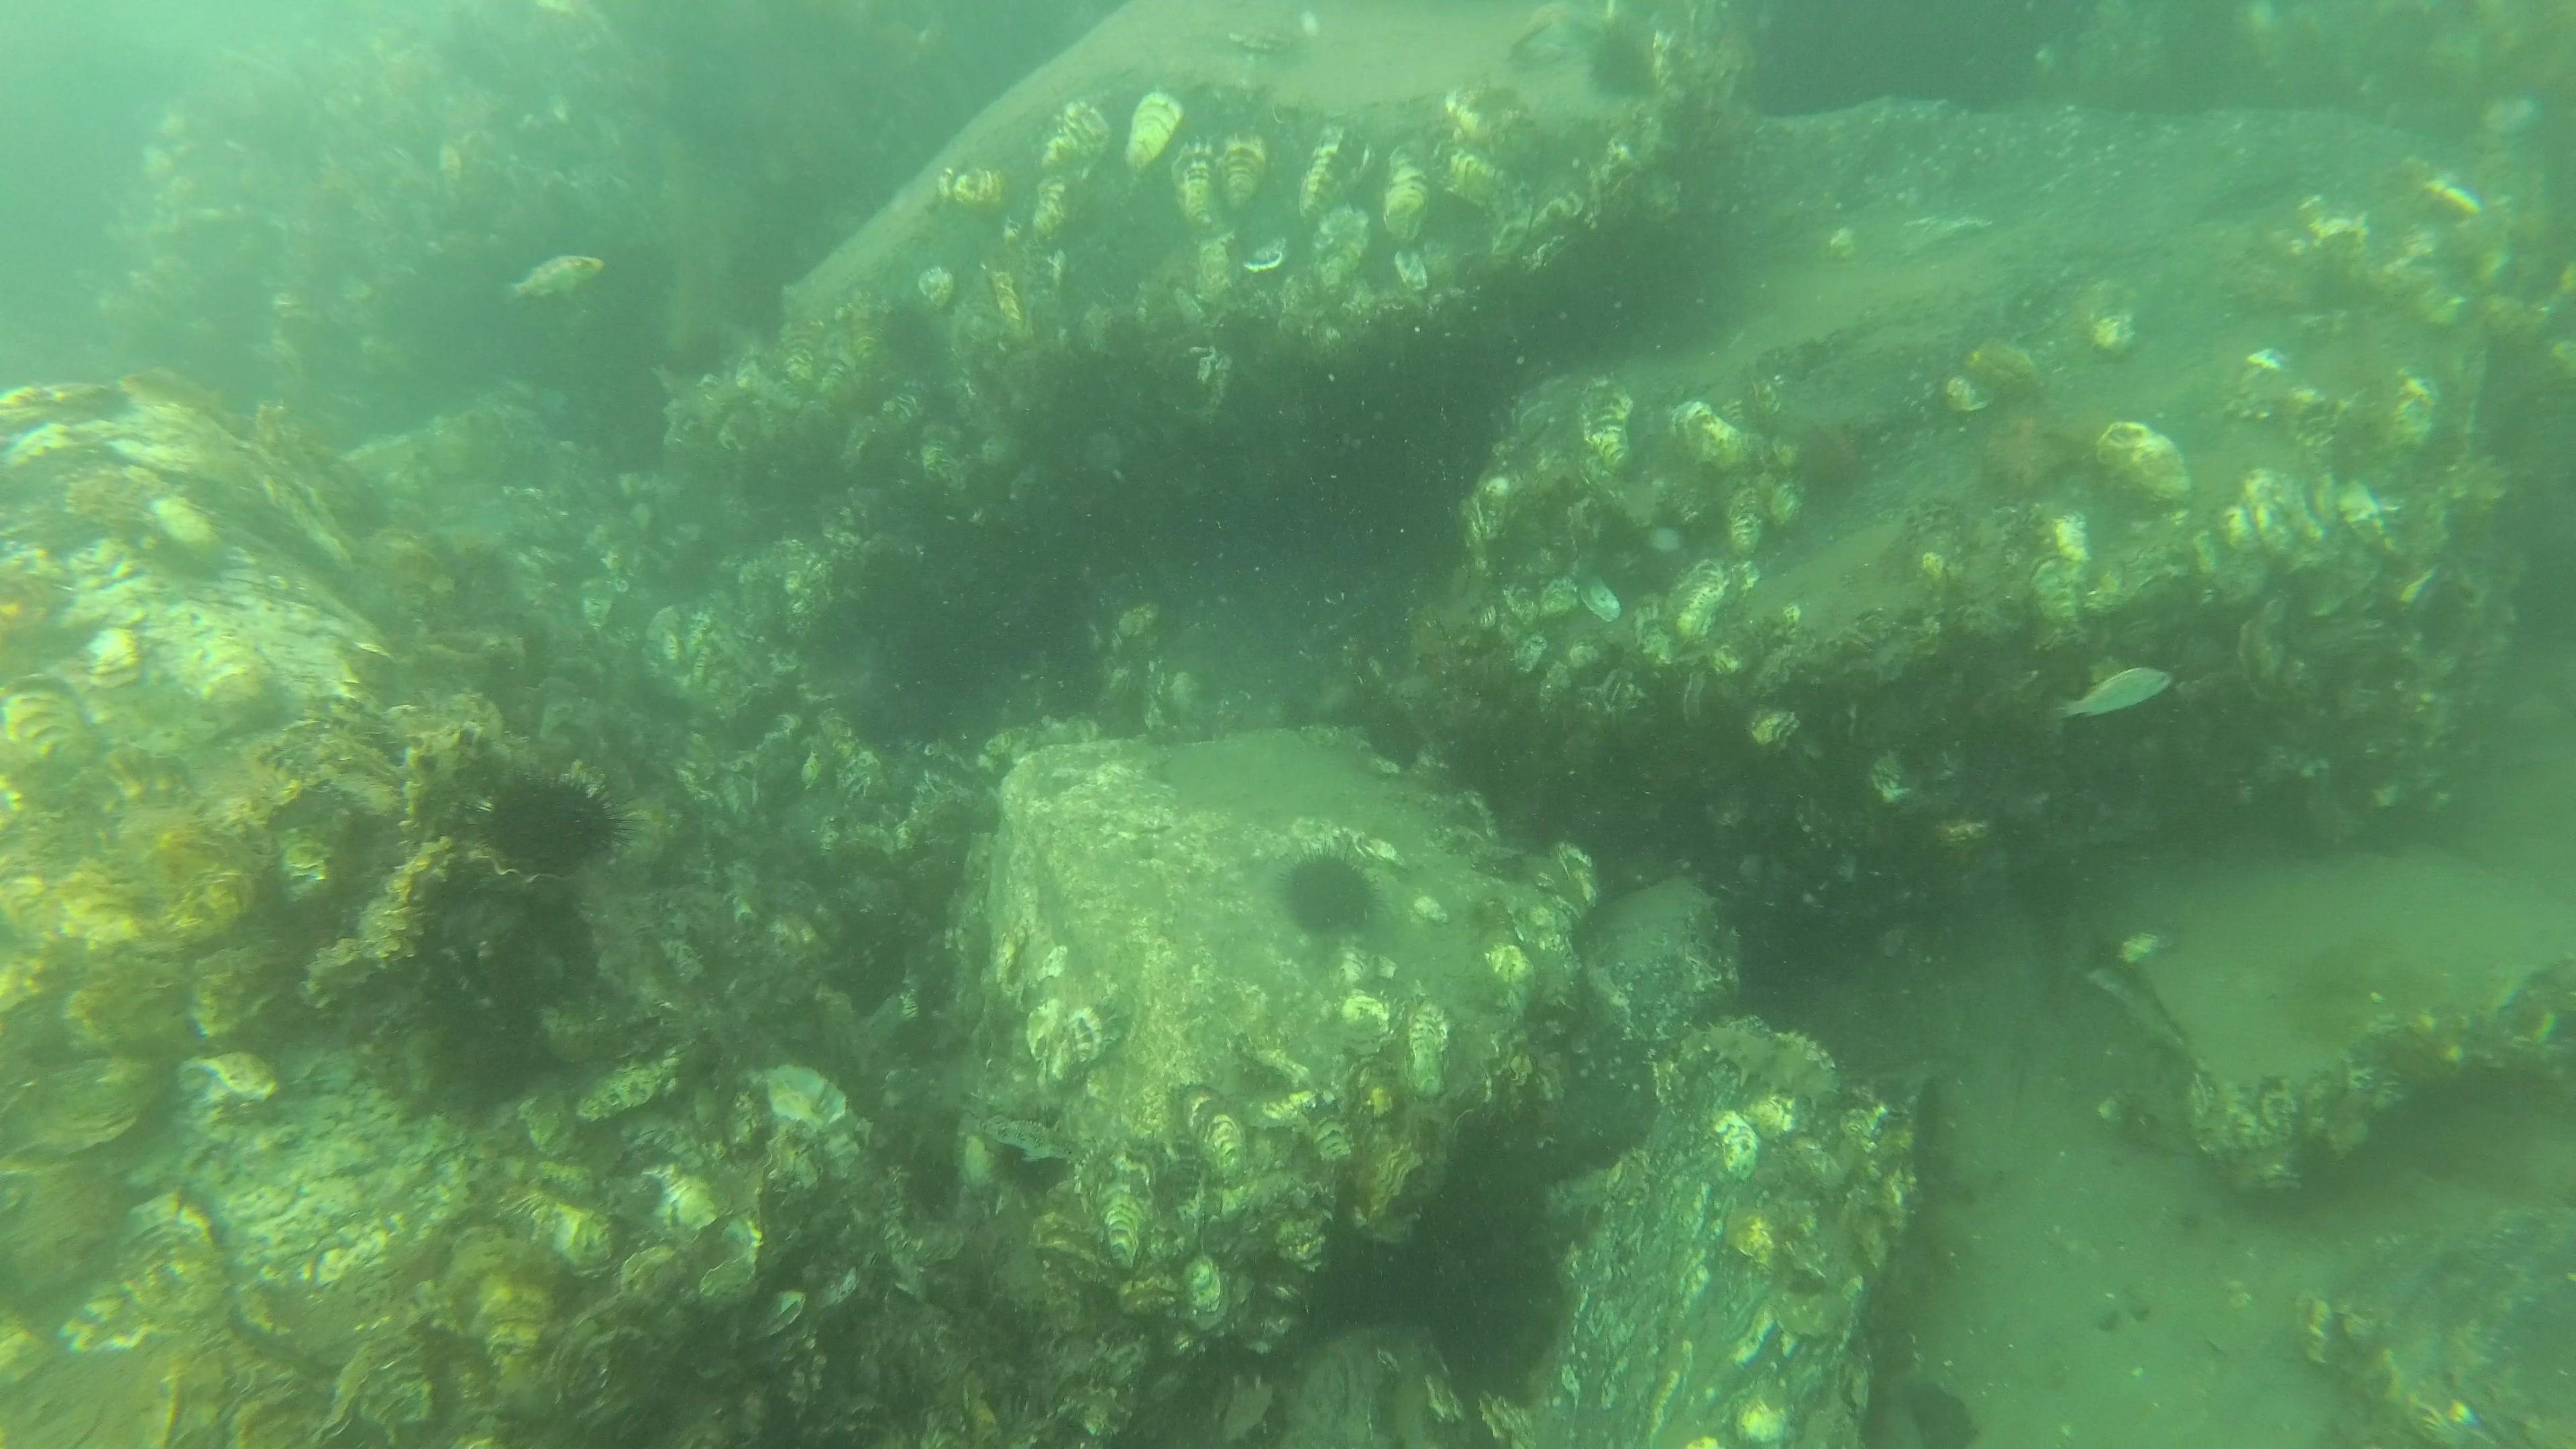echinus: (481, 764, 633, 883), (1435, 1235, 1559, 1369), (1281, 846, 1384, 945), (1583, 25, 1658, 106), (869, 297, 932, 361)
